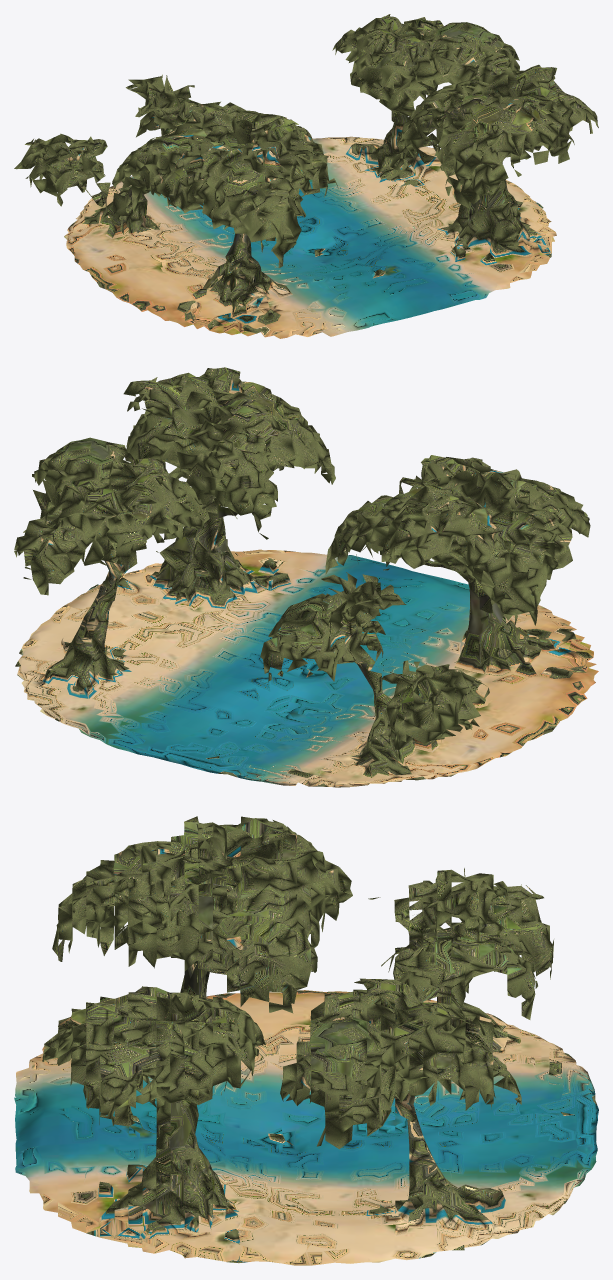
Rendered from oasis.glb.
The picture shows the model from 3 angles, top to bottom: view 1: azimuth 30°, elevation 25°; view 2: azimuth 150°, elevation 25°; view 3: azimuth 270°, elevation 25°; orthographic projection. The views are drawn at different scales.
Size of the model in its own units: 1.88 by 0.7625 by 1.64.
1 material, 1 textured.
